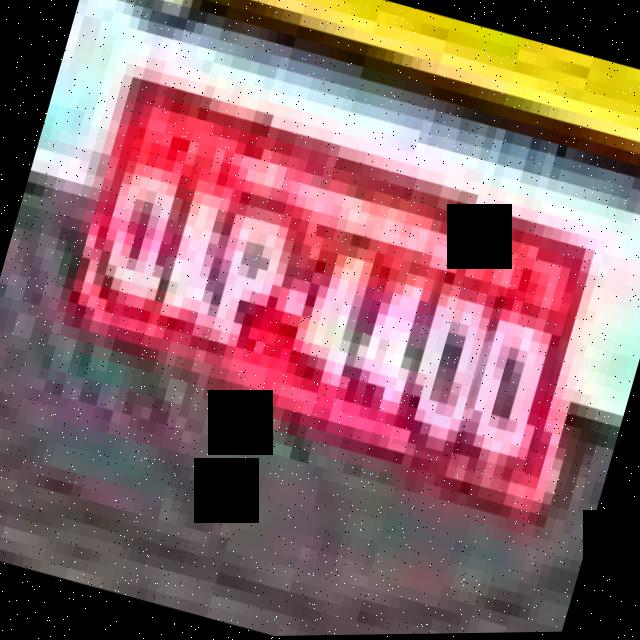0: (451, 292, 571, 486), (392, 270, 504, 462)
4: (278, 222, 379, 405), (338, 246, 436, 429)
P: (190, 186, 304, 369)
Q: (82, 146, 196, 333)
